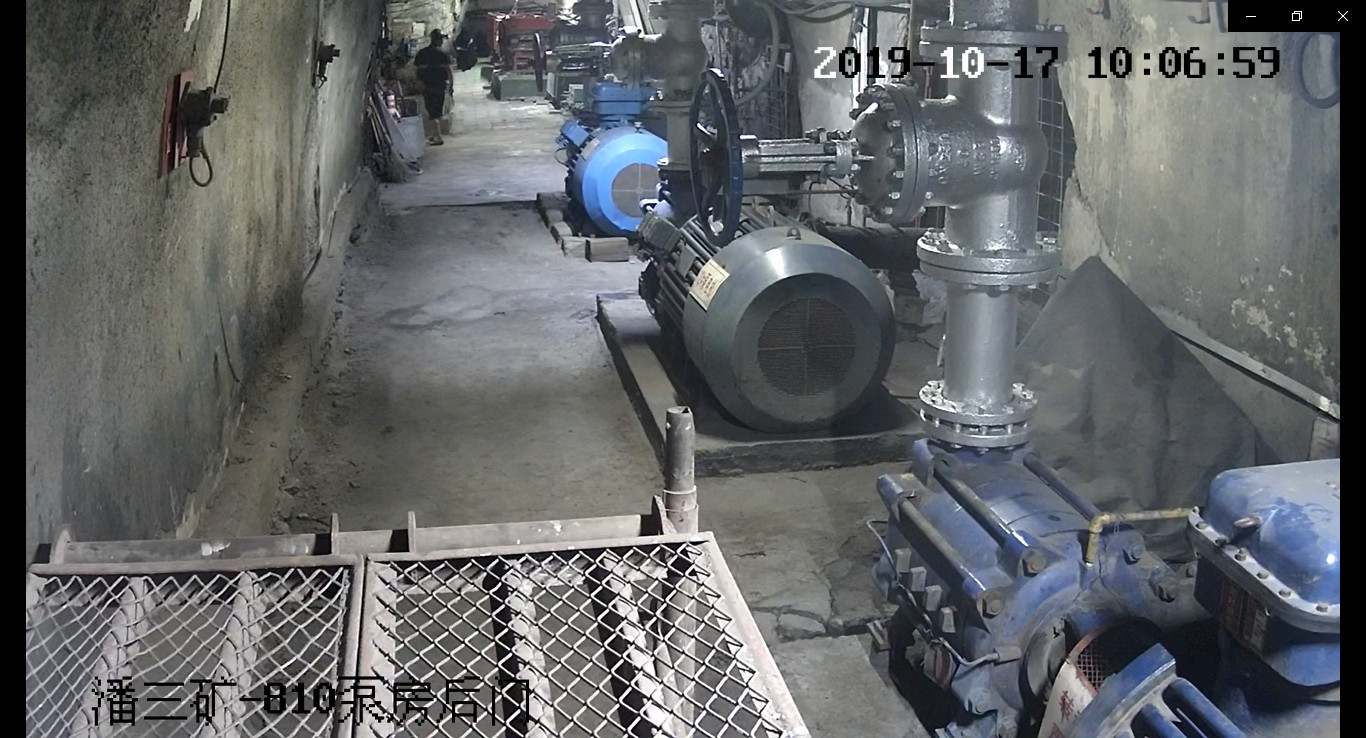helmet: (427, 27, 450, 39)
